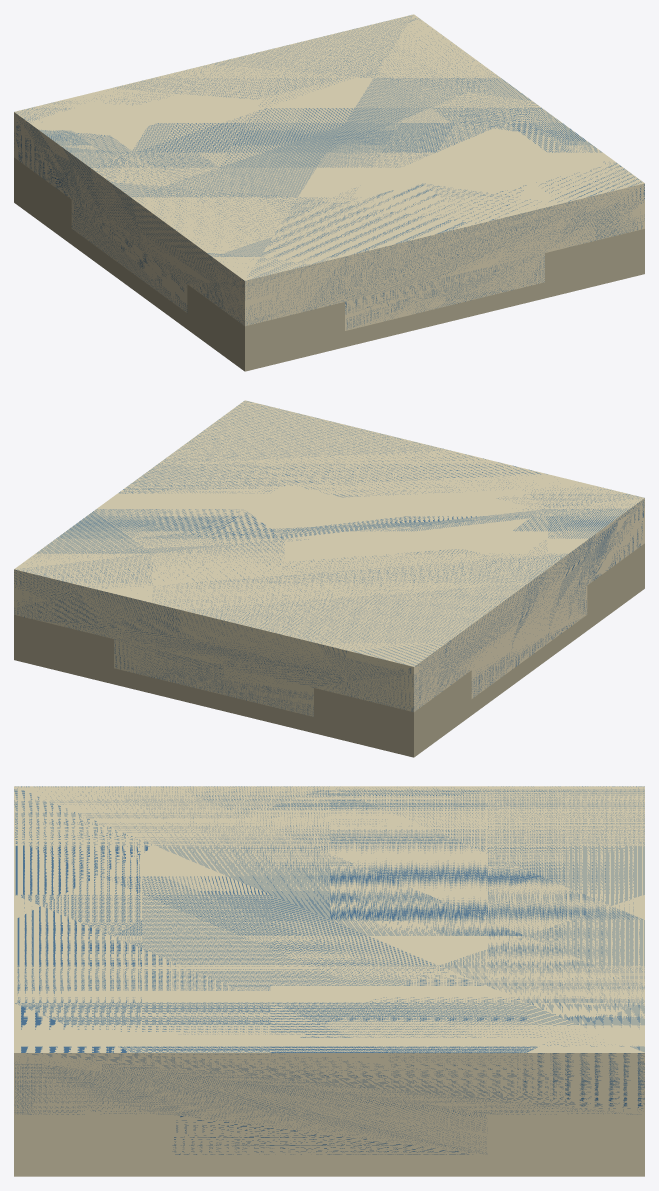
The model's file is towerSquareMidColor.obj.
3 renders of one model, top to bottom at view 1: azimuth 30°, elevation 25°; view 2: azimuth 150°, elevation 25°; view 3: azimuth 270°, elevation 25°, orthographic. The views are drawn at different scales.
Parts seen in each view (by area): view 1: towerSquareMidColor; view 2: towerSquareMidColor; view 3: towerSquareMidColor.
Part boxes in pixels (x1,y1,x2,y2): towerSquareMidColor: [14, 14, 644, 371]; towerSquareMidColor: [14, 400, 644, 757]; towerSquareMidColor: [14, 786, 644, 1176].
Size of the model in its own units: 9.3 by 2.02 by 9.3.
